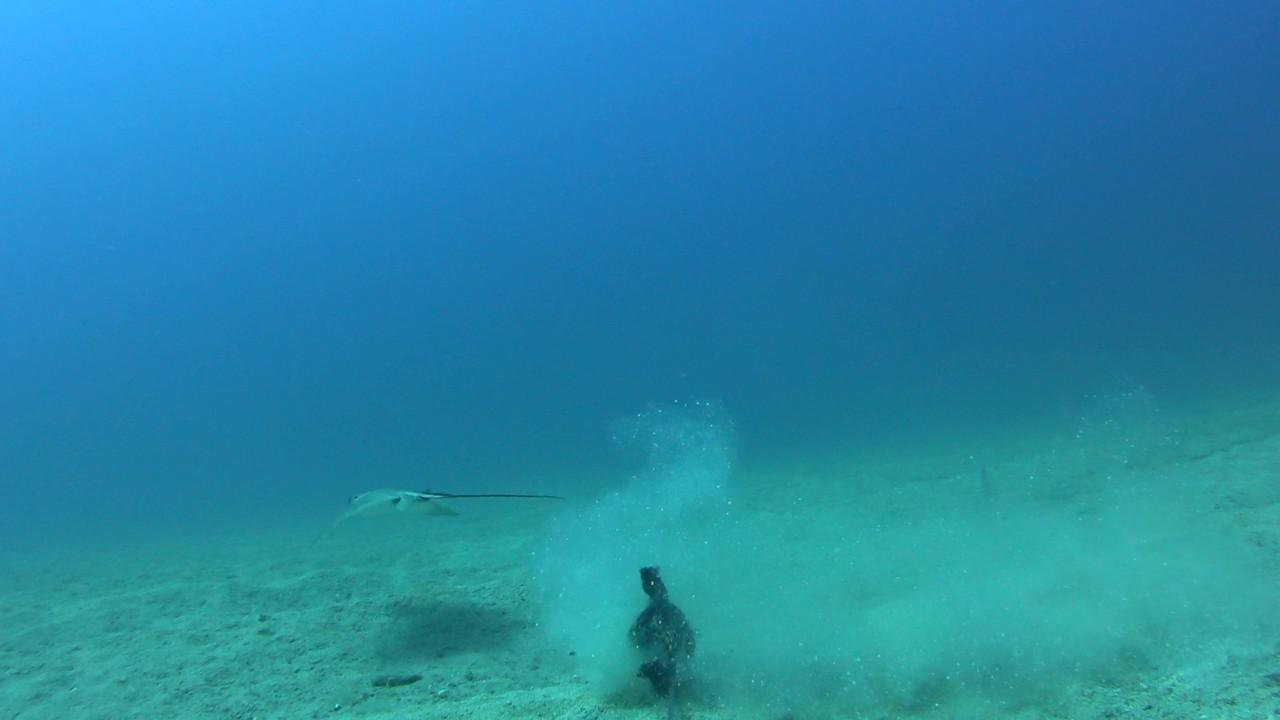myliobatis: (310, 461, 569, 563)
